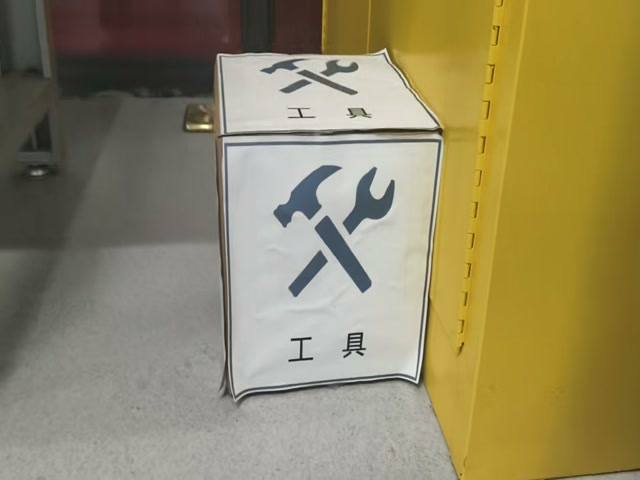Cube_tool: (214, 44, 442, 156)
